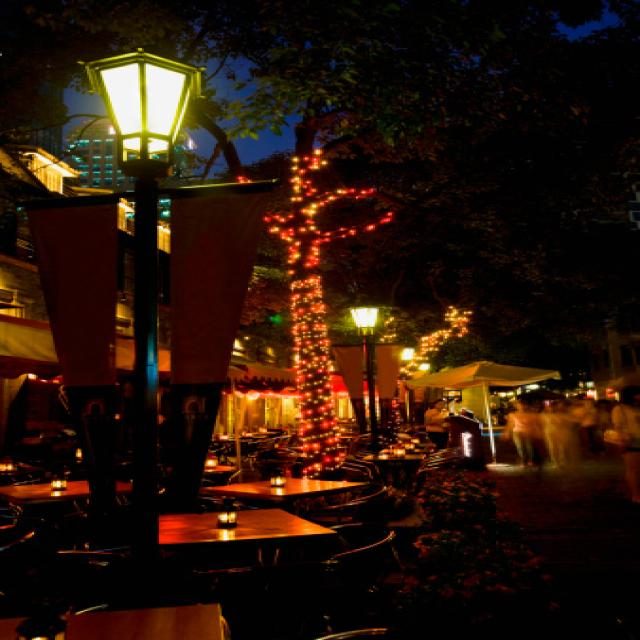Table: (105, 493, 350, 604), (0, 578, 287, 640), (0, 447, 143, 541), (231, 455, 369, 509)
chair: (313, 524, 430, 590)
